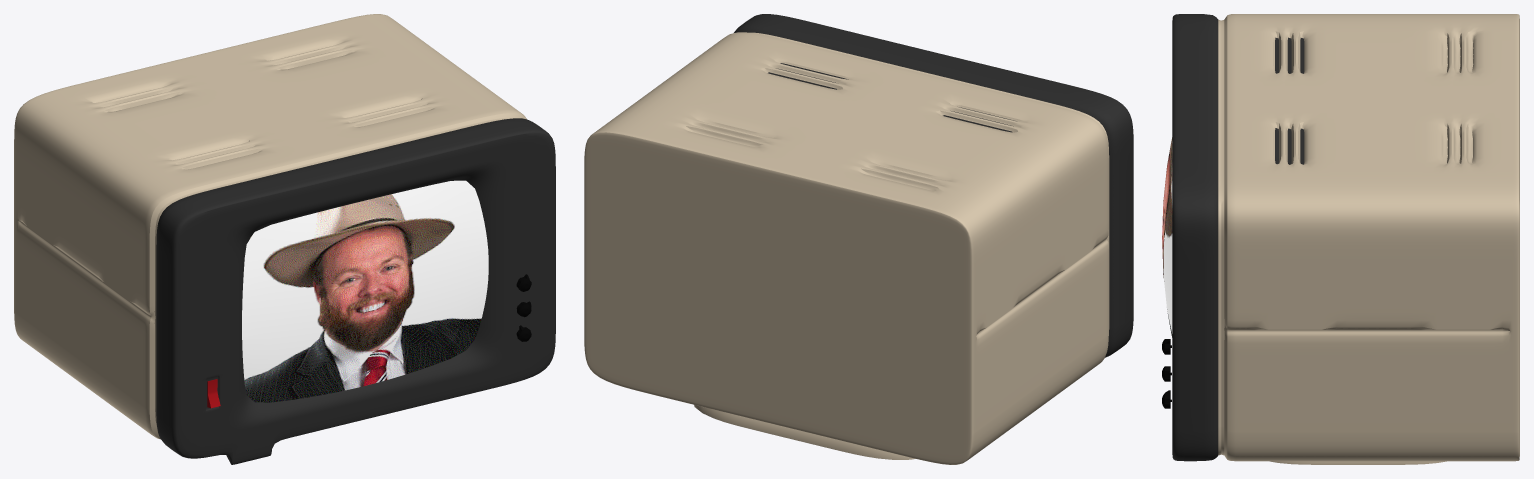
File: comp wip 13 simple.gltf
3 renders of one model, left to right at view 1: azimuth 30°, elevation 25°; view 2: azimuth 150°, elevation 25°; view 3: azimuth 270°, elevation 25°, orthographic. The views are drawn at different scales.
Parts seen in each view (by area): view 1: Case, Glass; view 2: Case; view 3: Case, Glass.
Boxes of the visible parts, x1=… form: Case: x1=14, y1=14, x2=555, y2=464; Glass: x1=242, y1=180, x2=488, y2=402; Case: x1=584, y1=14, x2=1133, y2=464; Case: x1=1172, y1=14, x2=1519, y2=464; Glass: x1=1162, y1=137, x2=1172, y2=337.
Bounding box in the file's own units: 3.2 × 2.2 × 2.4.
Materials: 5 (1 with a texture image).
